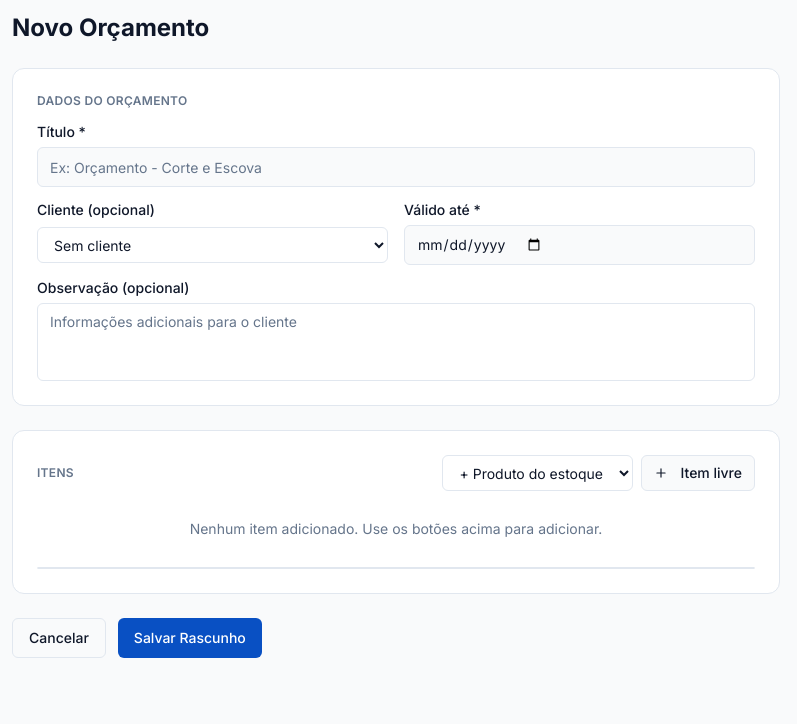
Test: NovoOrcamento form › adiciona item produto ao selecionar no dropdown
This screenshot has width=797, height=724.
Select "Shampoo — R$ 50,00" in the dropdown in the row of "Itens" at x=538, y=473, box [442, 455, 634, 491]
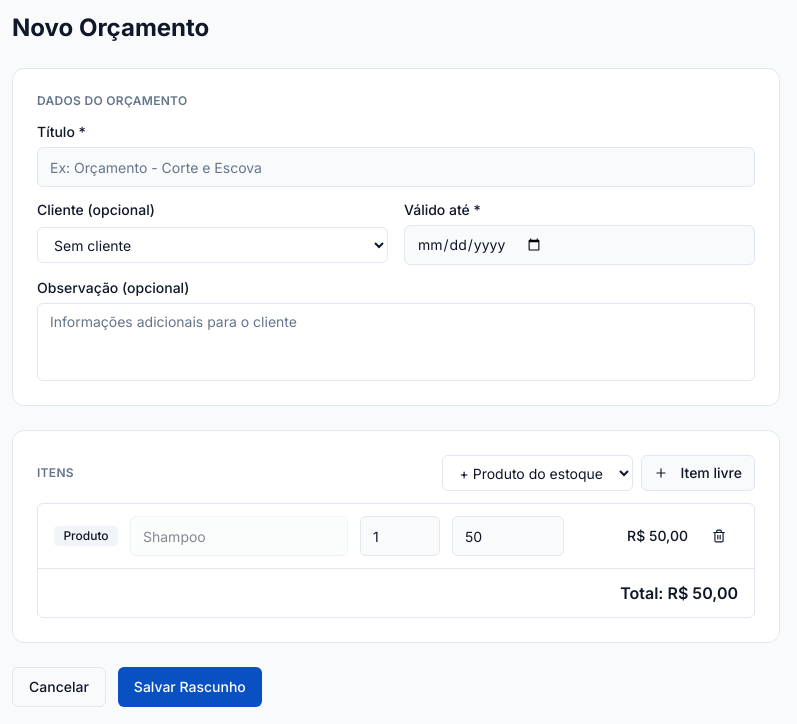
Check: the field showing "Shampoo" is shown, box [130, 516, 348, 556]
